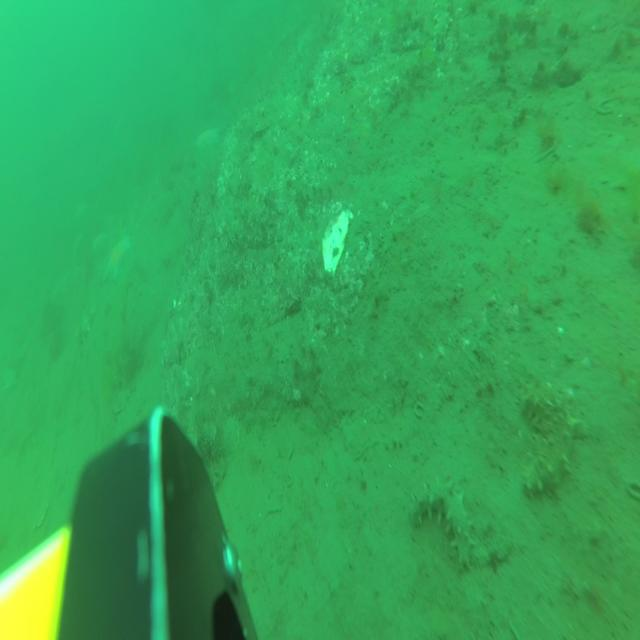holothurian: (522, 378, 583, 496), (410, 478, 475, 568), (78, 306, 94, 348)
starfish: (107, 233, 131, 282), (194, 130, 220, 152)
